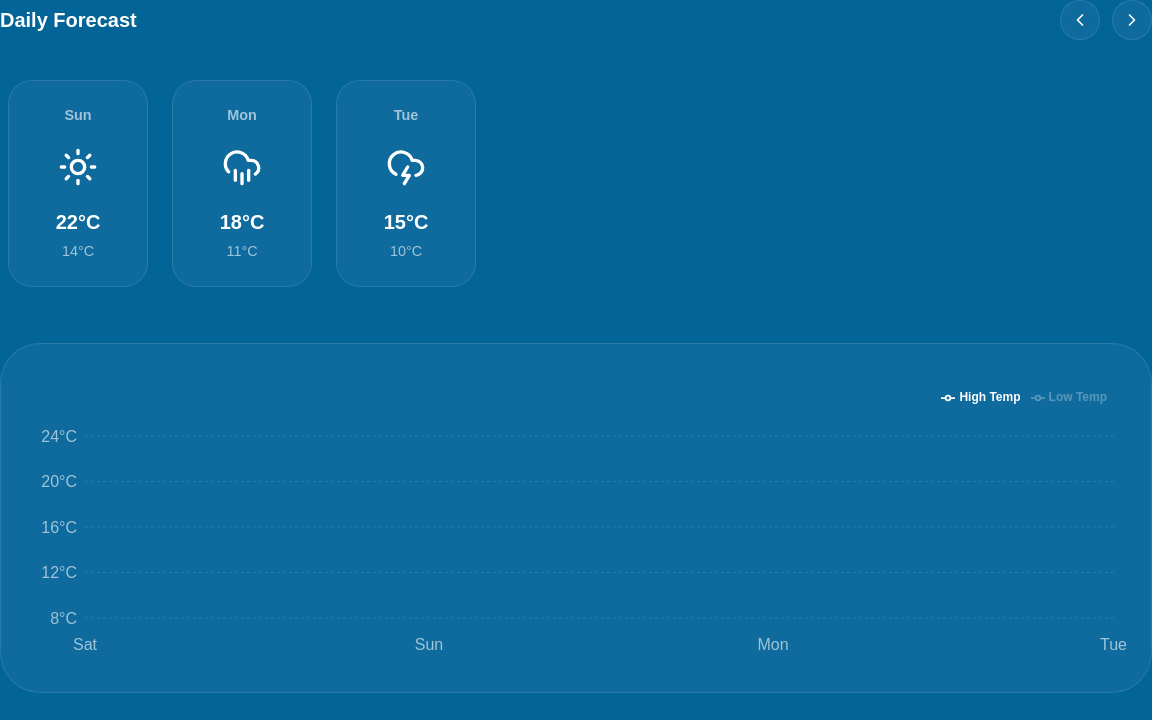
DailyForecast › day selection › closes the modal when the Dialog close button is clicked
What coordinates should you click on to do the following:
click the button "Sun 22°C 14°C"
I would click on:
 (78, 184)
Its box is [8,80,148,287].
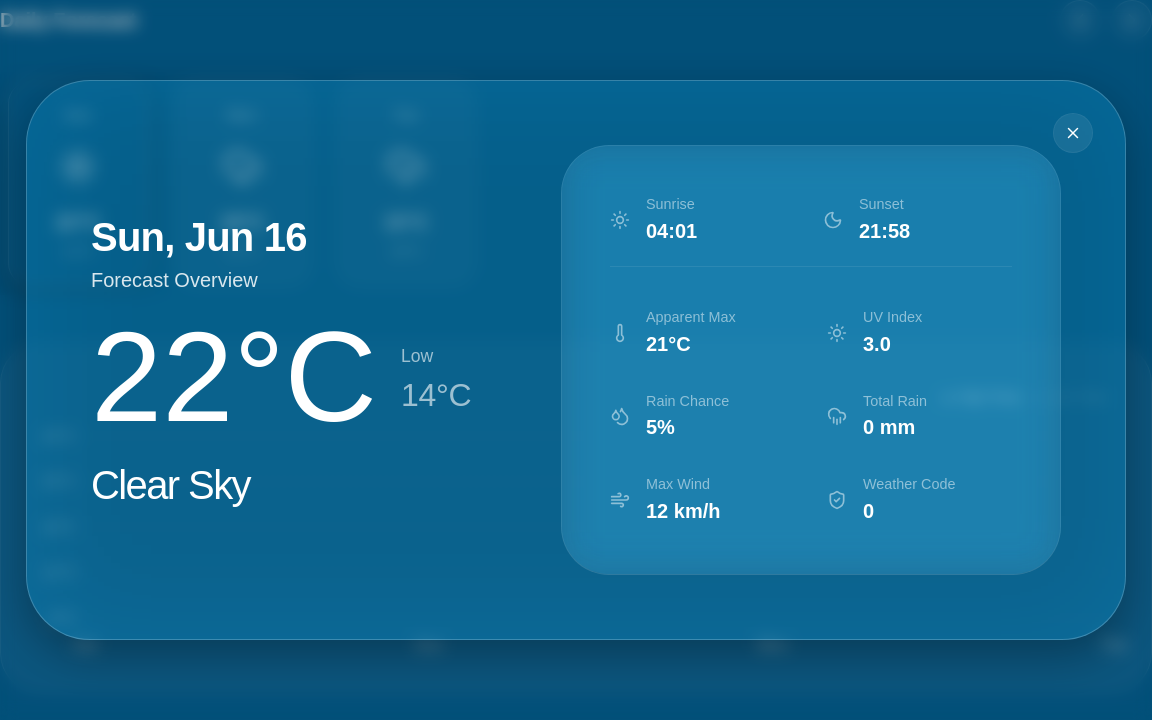
Expected: the dialog is shown
What coordinates should you click on to do the following:
click the button named "close dialog"
I would click on:
 (1073, 133)
Its box is [1053,113,1093,153].
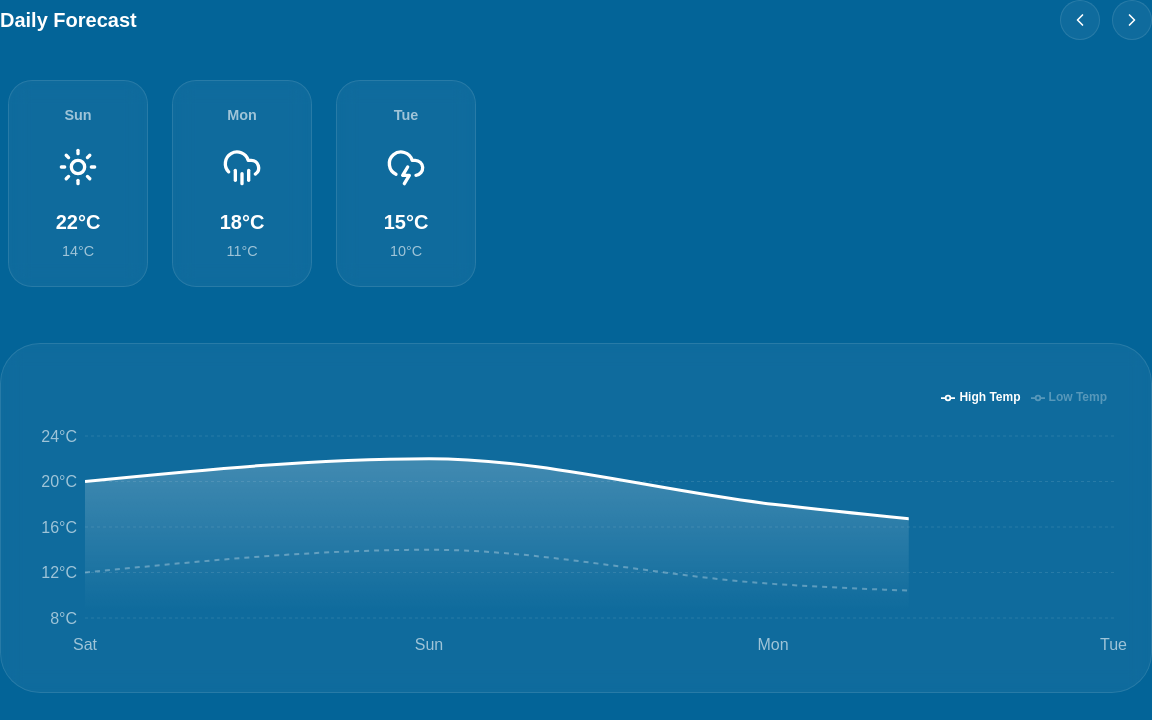
Expected: the dialog is gone
